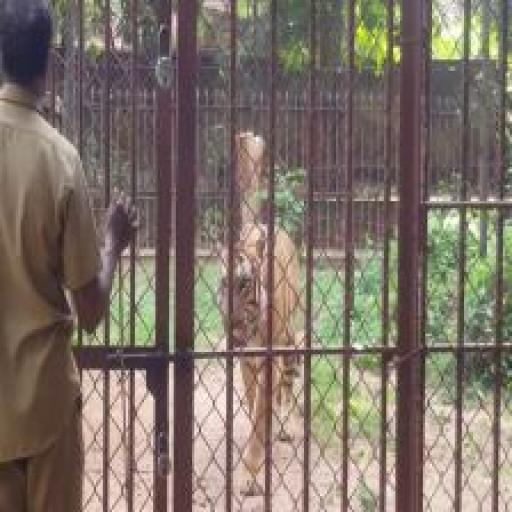Tiger: (206, 222, 327, 499)
